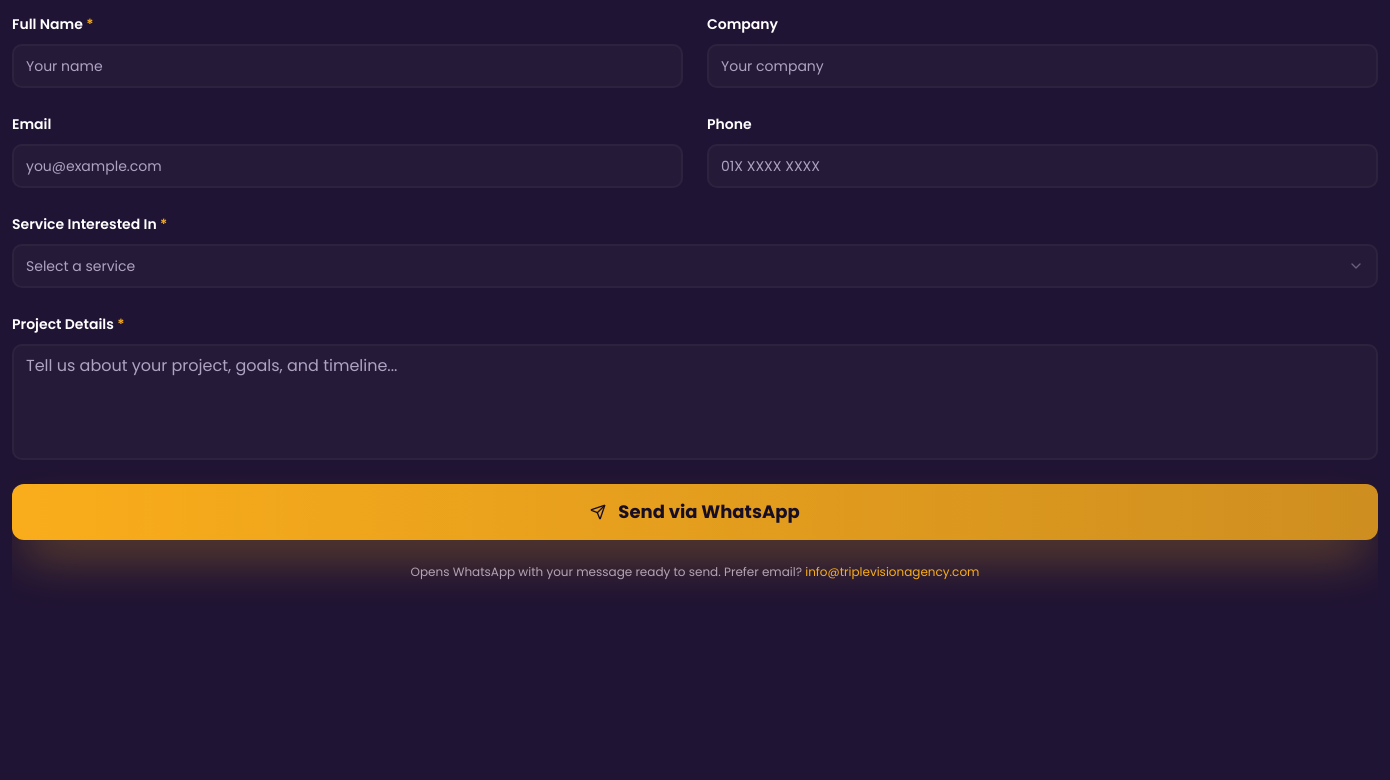
Scenario: ContactForm › blocks submission until the required fields are filled
Click the button "Send via WhatsApp": [695, 512] box x1=12 y1=484 x2=1378 y2=540
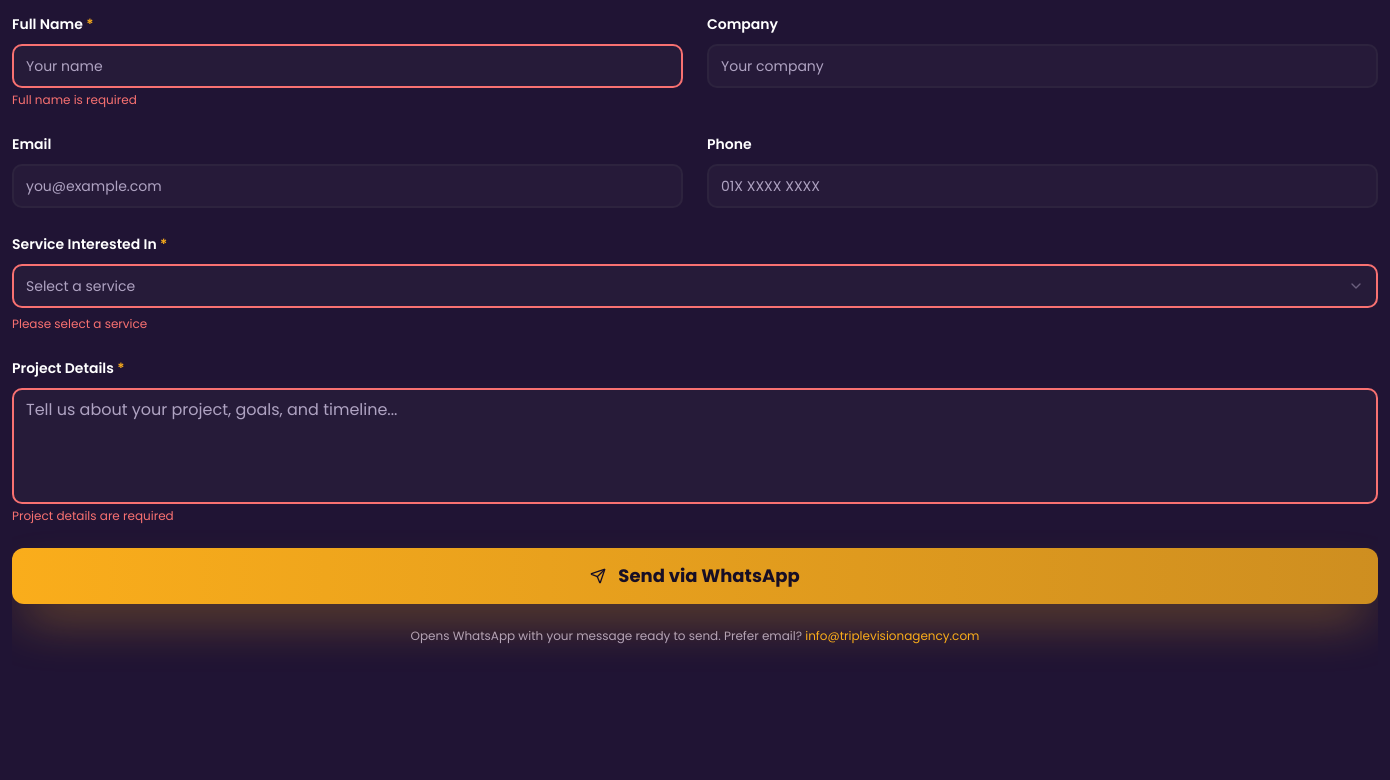
Check: the text "Full name is required" is shown, box x1=12 y1=91 x2=137 y2=108
